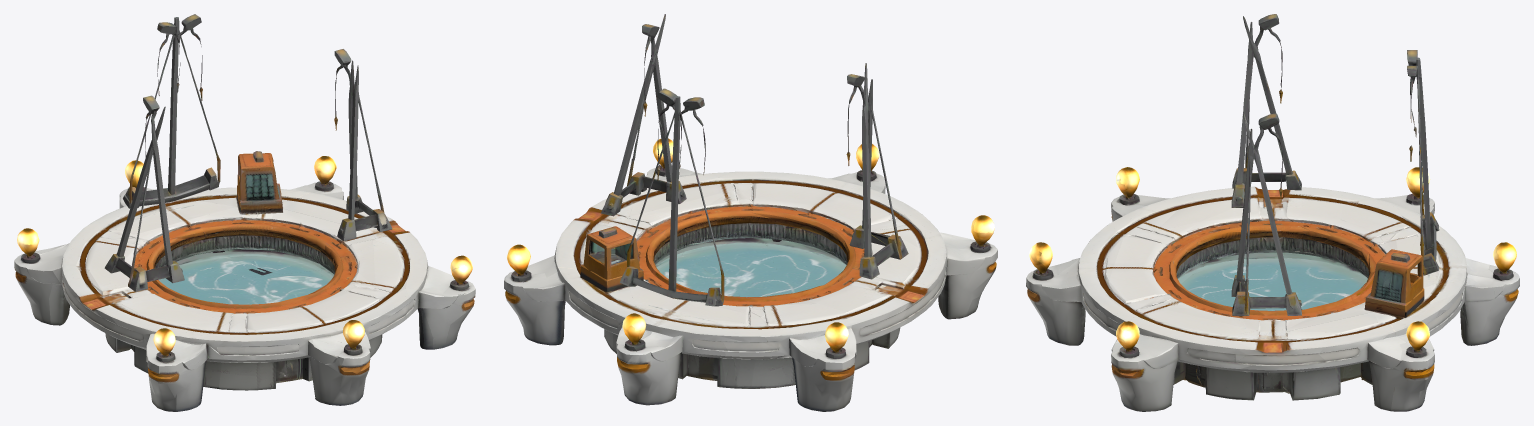
File: ocean-harbor-hub-mesh.glb
3 views of the same model, side by side, from view 1: azimuth 30°, elevation 25°; view 2: azimuth 150°, elevation 25°; view 3: azimuth 270°, elevation 25° (orthographic). The views are drawn at different scales.
Parts seen in each view (by area): view 1: Mesh_0; view 2: Mesh_0; view 3: Mesh_0.
Part boxes in pixels (box(x1,y1,x2,y2)): Mesh_0: box(14, 14, 475, 411); Mesh_0: box(504, 14, 997, 411); Mesh_0: box(1026, 14, 1519, 411).
Size of the model in its own units: 1.52 by 1.2 by 1.9.
Materials: 1 (1 with a texture image).
